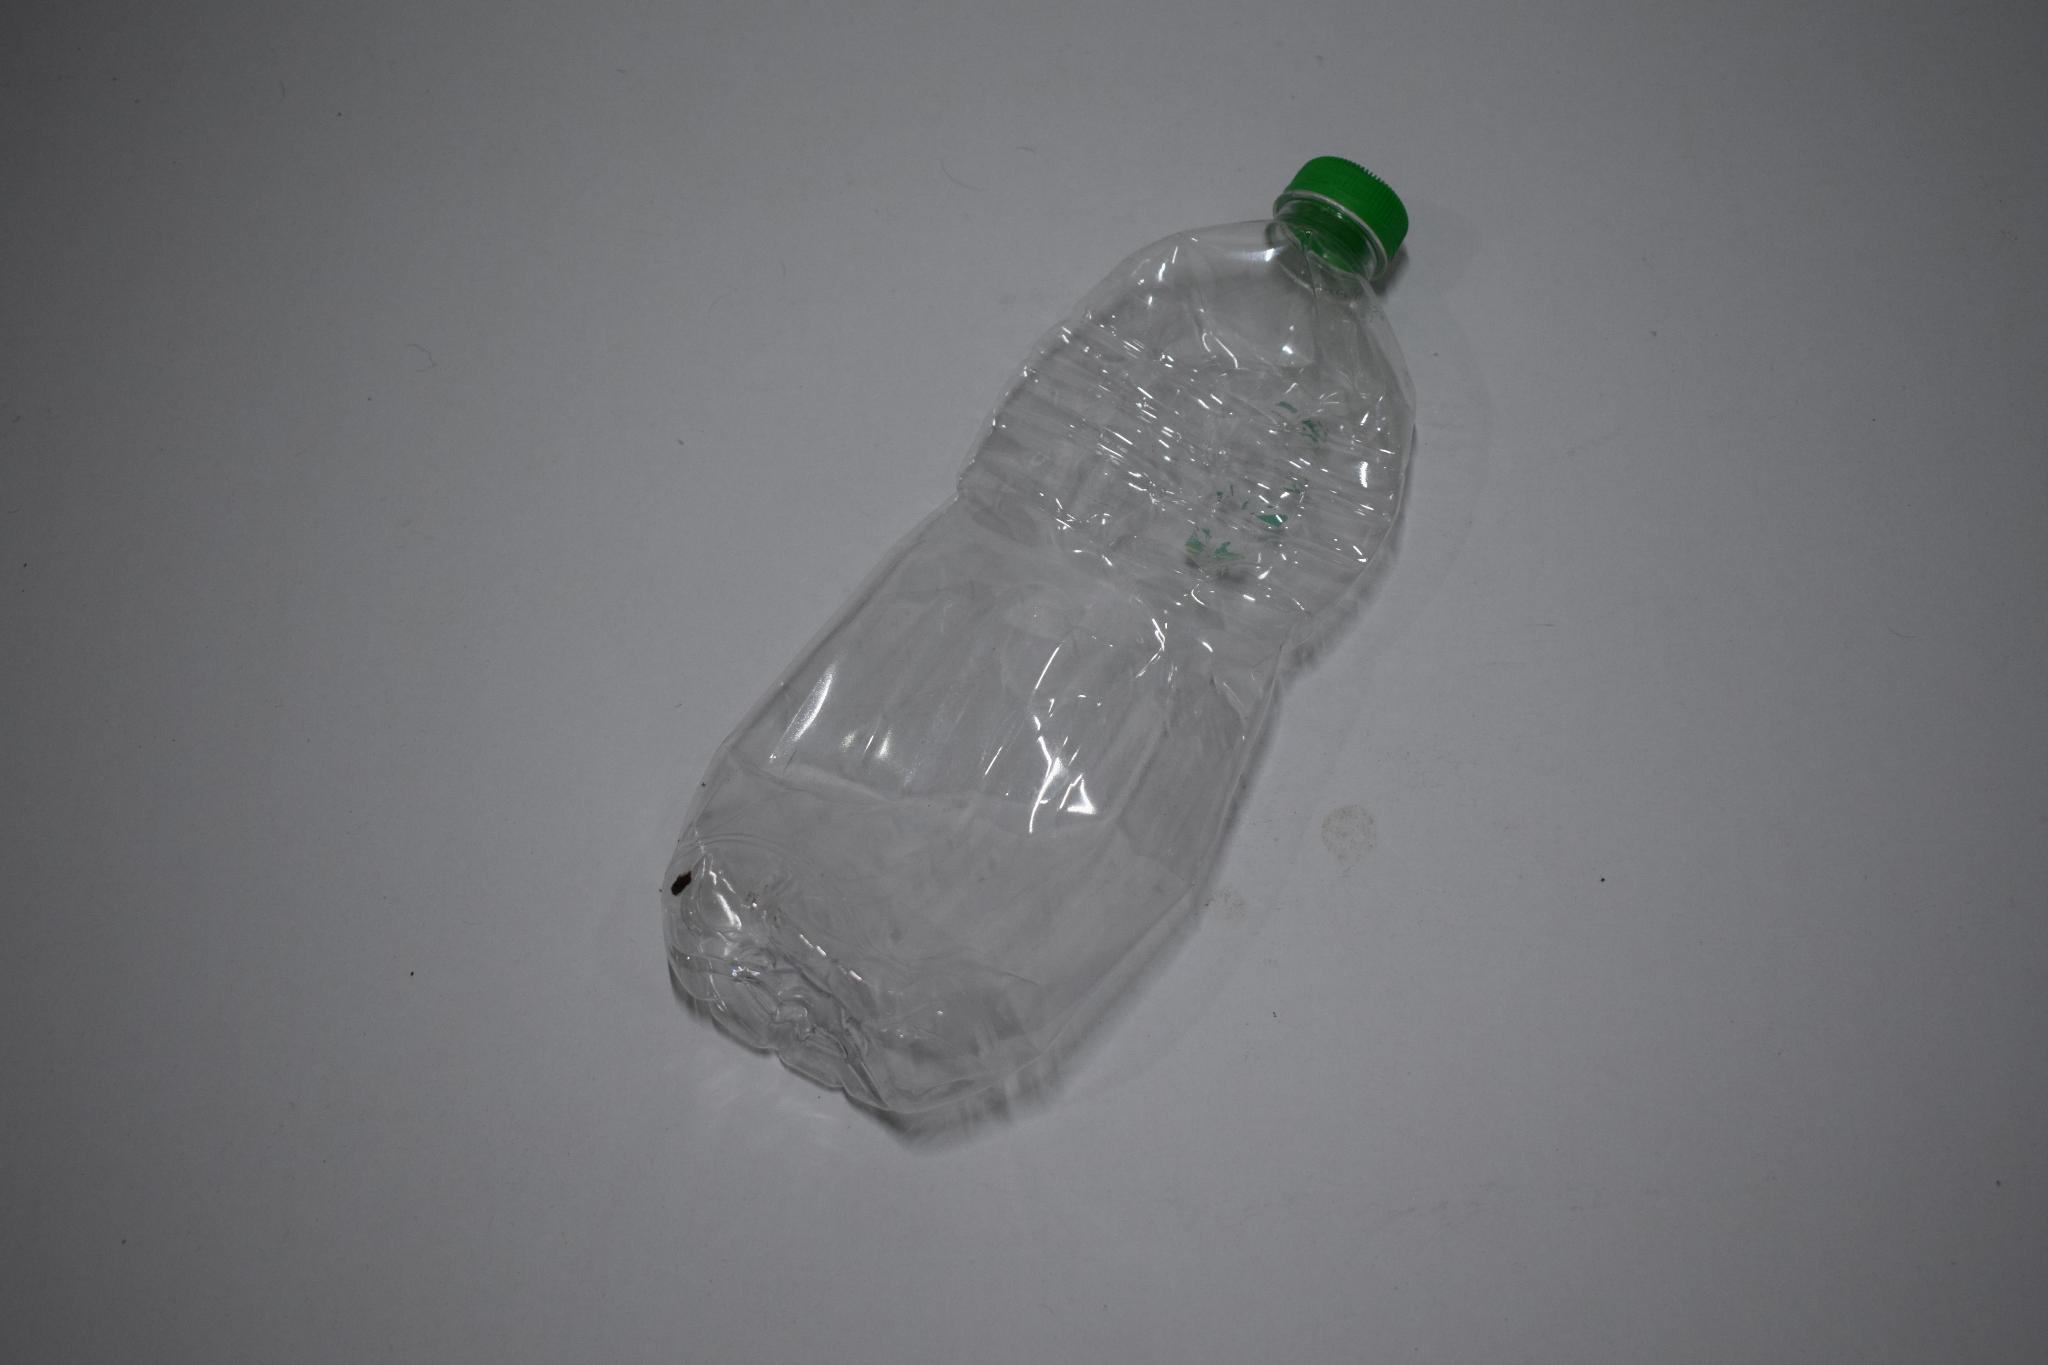bottle: (650, 145, 1534, 1155)
